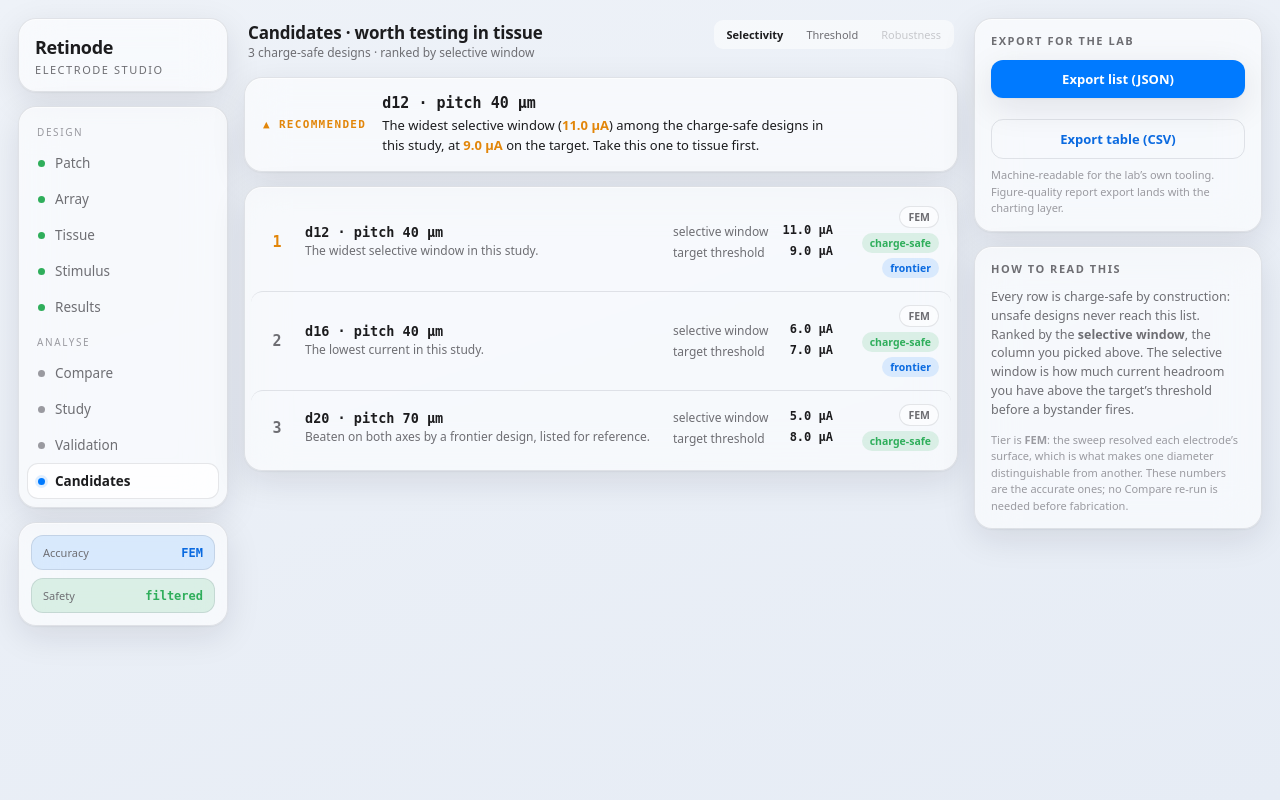
Scenario: Candidates › states the claim for the sort that is actually active
Click the button "threshold" at {"x": 832, "y": 34}, box x1=796 y1=23 x2=868 y2=46
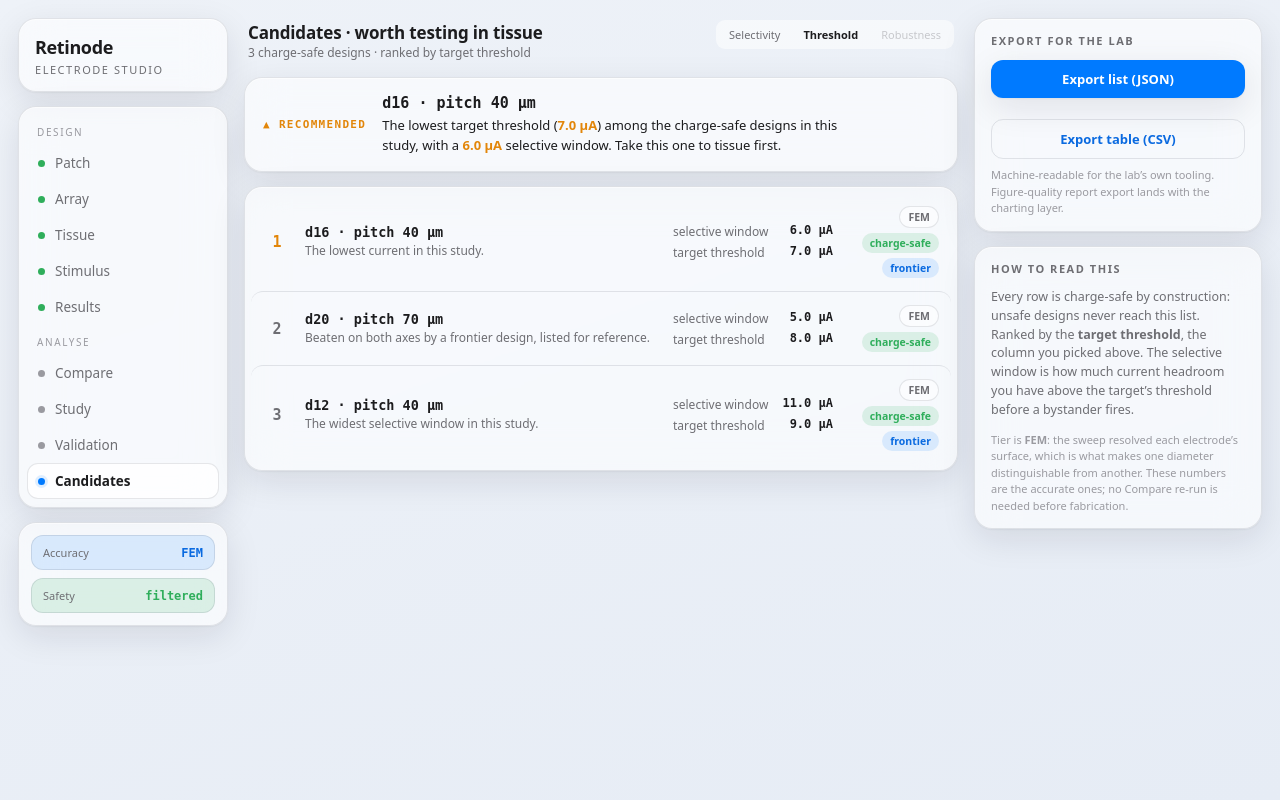
Now the text "ranked by target threshold" is shown, box x1=248 y1=44 x2=531 y2=61
